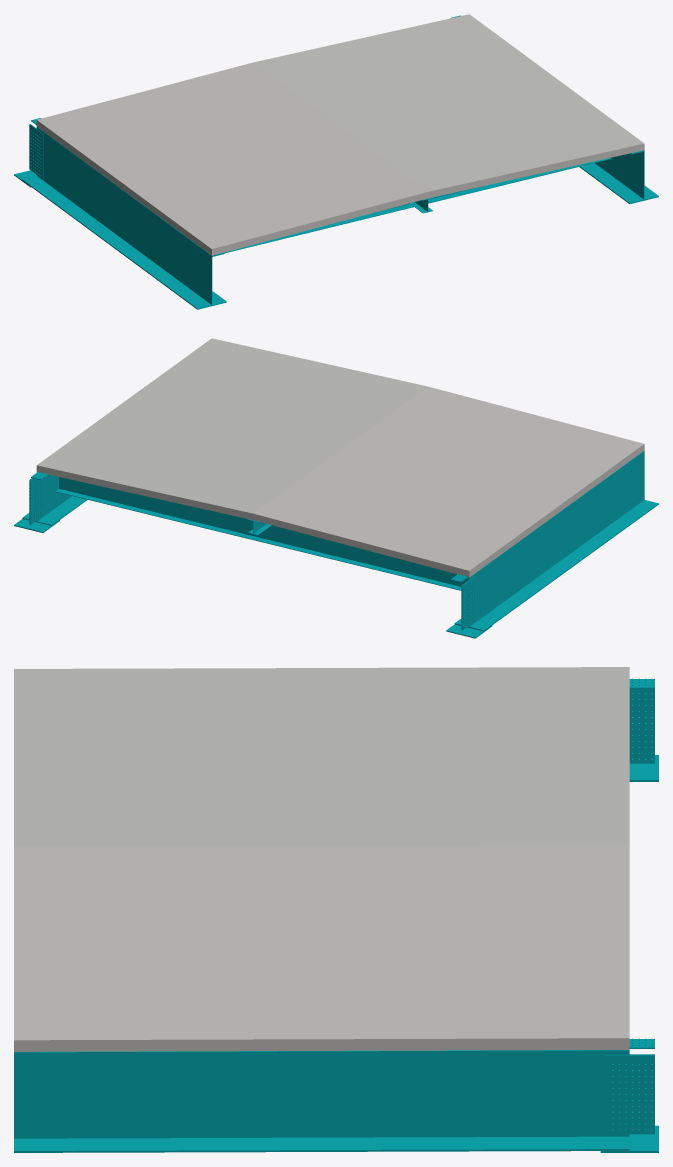
File: DECK_NS06.glb
3 renders of one model, top to bottom at view 1: azimuth 30°, elevation 25°; view 2: azimuth 150°, elevation 25°; view 3: azimuth 270°, elevation 25°, orthographic. The views are drawn at different scales.
Visible parts, largest first — view 1: NS06_Slab_15, NS06_G_W_0, NS06_G_E_1, NS06_FB_bf_14, NS06_SpliceW_17; view 2: NS06_Slab_15, NS06_G_W_0, NS06_FB_web_3, NS06_FB_bf_6, NS06_G_E_1, NS06_SpliceW_17, NS06_SpliceW_25; view 3: NS06_Slab_15, NS06_G_E_1, NS06_SpliceW_26, NS06_SpliceW_18.
Boxes of the visible parts, x1,y1,x2,y2 form: NS06_Slab_15: (36, 14, 644, 255); NS06_G_W_0: (22, 127, 226, 309); NS06_G_E_1: (579, 150, 658, 203); NS06_FB_bf_14: (224, 158, 611, 253); NS06_SpliceW_17: (29, 124, 43, 179); NS06_Slab_15: (36, 338, 644, 577); NS06_G_W_0: (454, 450, 658, 631); NS06_FB_web_3: (59, 477, 468, 586); NS06_FB_bf_6: (55, 489, 461, 590); NS06_G_E_1: (22, 472, 87, 525); NS06_SpliceW_17: (462, 575, 476, 630); NS06_SpliceW_25: (30, 478, 44, 525); NS06_Slab_15: (14, 667, 629, 1051); NS06_G_E_1: (14, 1050, 629, 1152); NS06_SpliceW_26: (604, 1055, 654, 1134); NS06_SpliceW_18: (629, 689, 654, 763).
Size of the model in its own units: 18.26 by 2.39 by 12.57.
